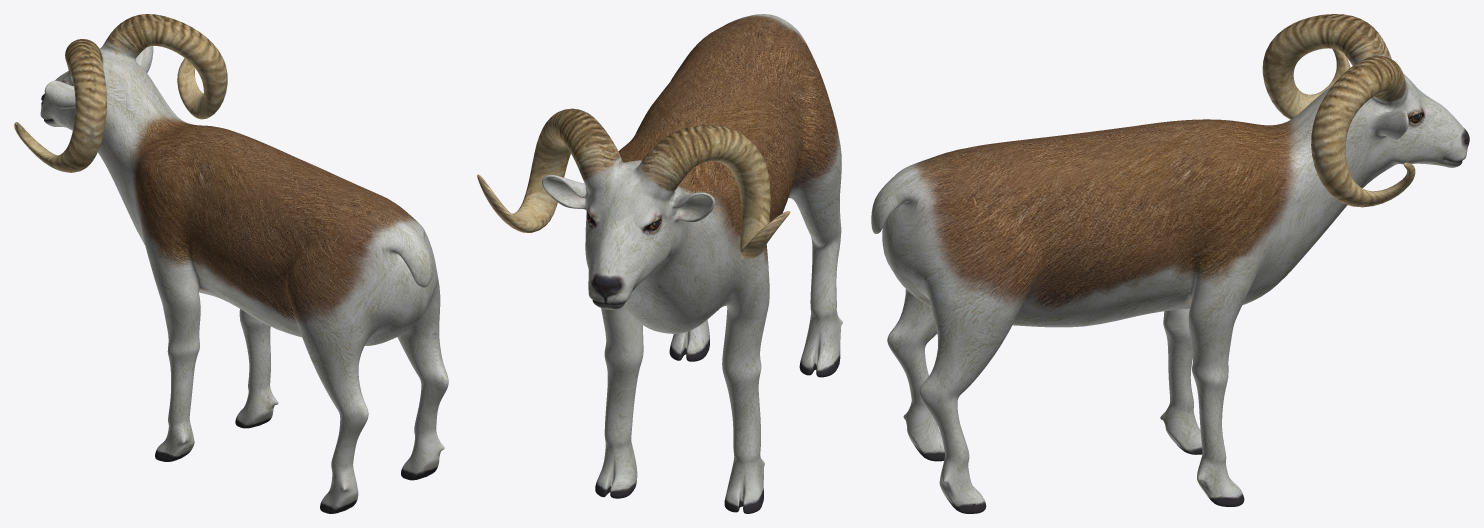
Rendered from sheep2.obj.
3 renders of one model, left to right at view 1: azimuth 30°, elevation 25°; view 2: azimuth 150°, elevation 25°; view 3: azimuth 270°, elevation 25°, orthographic. The views are drawn at different scales.
Visible parts, largest first — view 1: sheep; view 2: sheep; view 3: sheep.
Boxes of the visible parts, box(x1,y1,x2,y2) form: sheep: box(14, 14, 448, 513); sheep: box(477, 14, 842, 513); sheep: box(871, 14, 1469, 513).
Bounding box in the file's own units: 0.7011 × 0.9525 × 1.23.
Materials: 1 (1 with a texture image).
